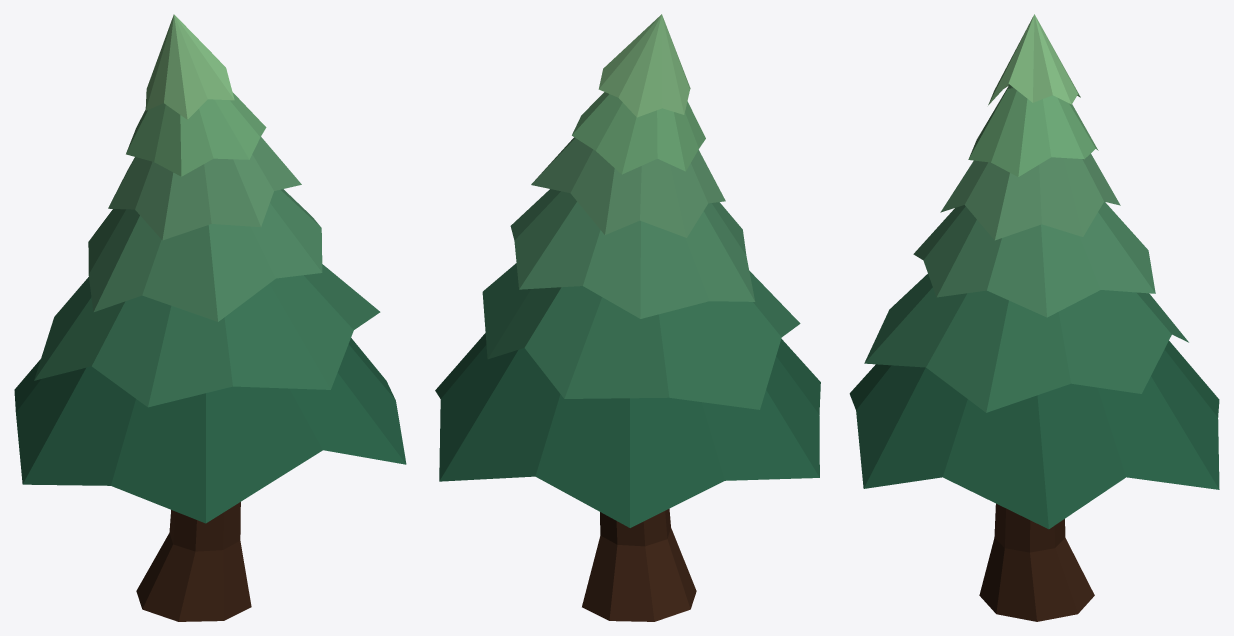
File: M_Tree_Vegetation_2.fbx
3 views of the same model, side by side, from view 1: azimuth 30°, elevation 25°; view 2: azimuth 150°, elevation 25°; view 3: azimuth 270°, elevation 25° (orthographic). The views are drawn at different scales.
Parts seen in each view (by area): view 1: M_Tree_Vegetation_2; view 2: M_Tree_Vegetation_2; view 3: M_Tree_Vegetation_2.
Part boxes in pixels (x1,y1,x2,y2): M_Tree_Vegetation_2: (14,14,406,621); M_Tree_Vegetation_2: (435,14,820,621); M_Tree_Vegetation_2: (849,14,1219,621).
Bounding box in the file's own units: 213 × 322 × 188.
